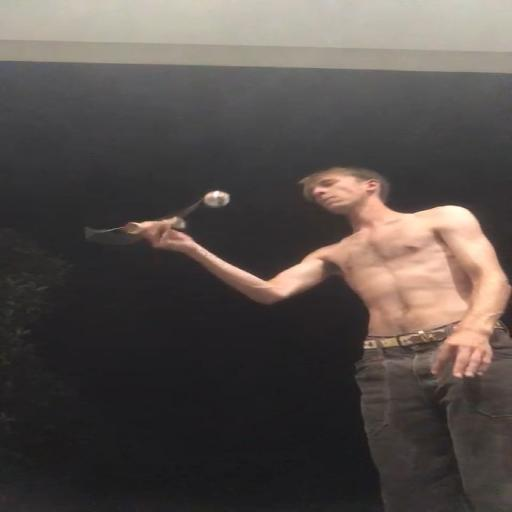kendama_ball: (202, 190, 230, 208)
